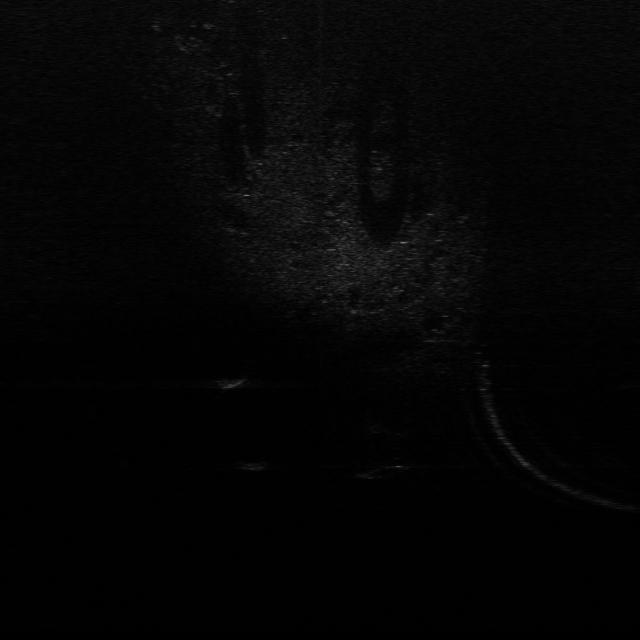cube: (234, 459, 270, 473)
square cage: (214, 375, 248, 391)
tyre: (351, 456, 413, 481)
